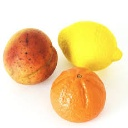orange: (51, 67, 106, 124)
